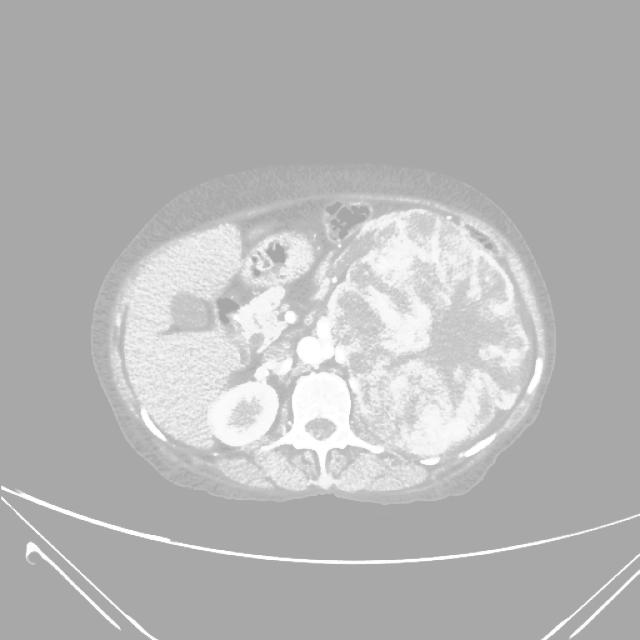TUMOR: (220, 202, 481, 445)
